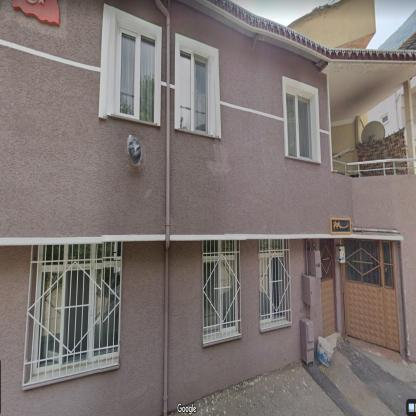door: (343, 239, 399, 350), (320, 239, 336, 337)
window: (31, 241, 122, 376), (114, 21, 156, 124), (203, 242, 236, 340), (180, 50, 209, 134), (259, 240, 287, 324), (285, 91, 313, 161), (382, 114, 388, 124)
